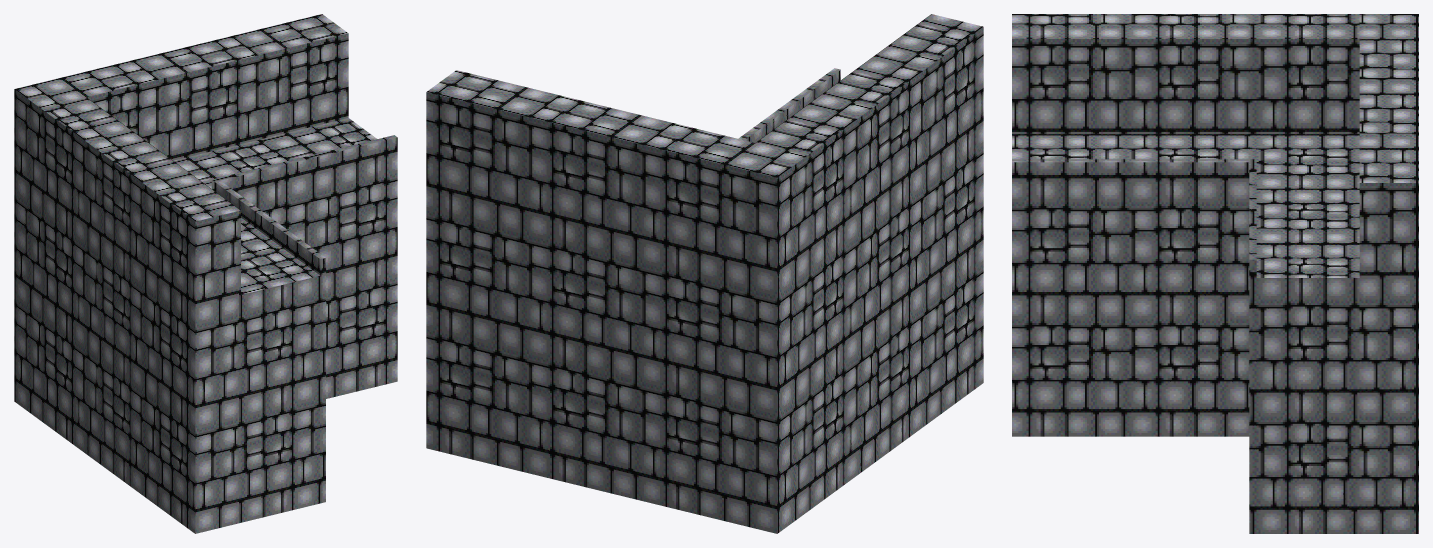
Rendered from citywallcorner.fbx.
3 views of the same model, side by side, from view 1: azimuth 30°, elevation 25°; view 2: azimuth 150°, elevation 25°; view 3: azimuth 270°, elevation 25° (orthographic). The views are drawn at different scales.
Parts seen in each view (by area): view 1: CityWall.002; view 2: CityWall.002; view 3: CityWall.002.
Part boxes in pixels (left/top/right/bottom): CityWall.002: left=14, top=14, right=397, bottom=533; CityWall.002: left=426, top=14, right=983, bottom=533; CityWall.002: left=1012, top=14, right=1418, bottom=533.
Size of the model in its own units: 4481 by 4344 by 4562.
